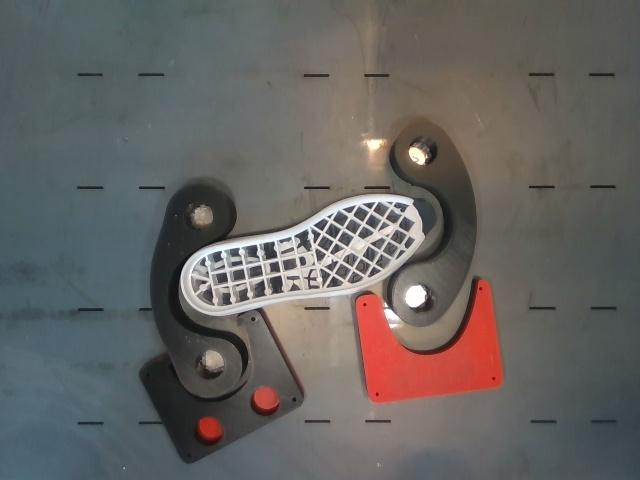shoes: (183, 196, 434, 312)
